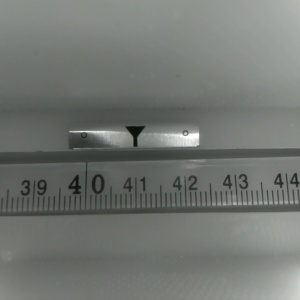0: (91, 174, 104, 194)
1: (139, 177, 145, 192)
2: (187, 175, 197, 191)
3: (19, 180, 30, 196), (237, 174, 248, 189)
4: (67, 175, 82, 194), (273, 173, 284, 188), (171, 175, 181, 191), (289, 172, 299, 187), (222, 175, 232, 189), (122, 178, 132, 192)
9: (36, 180, 47, 195)
finger: (123, 126, 145, 147)
